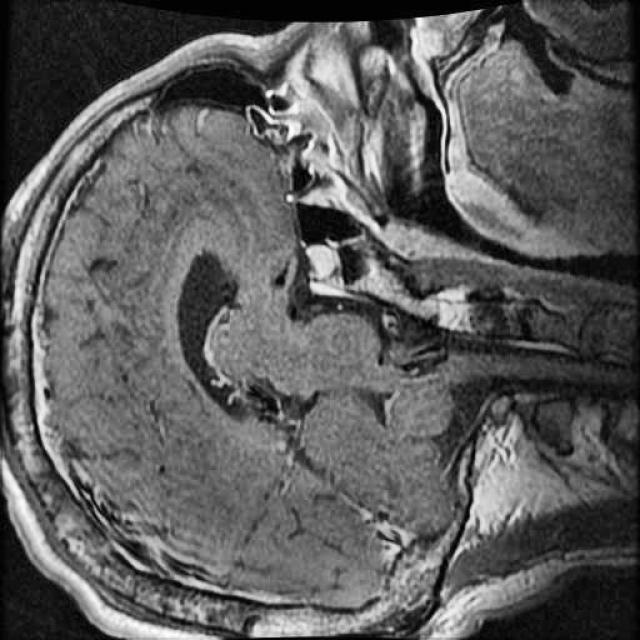Tumor: (302, 235, 345, 291)
